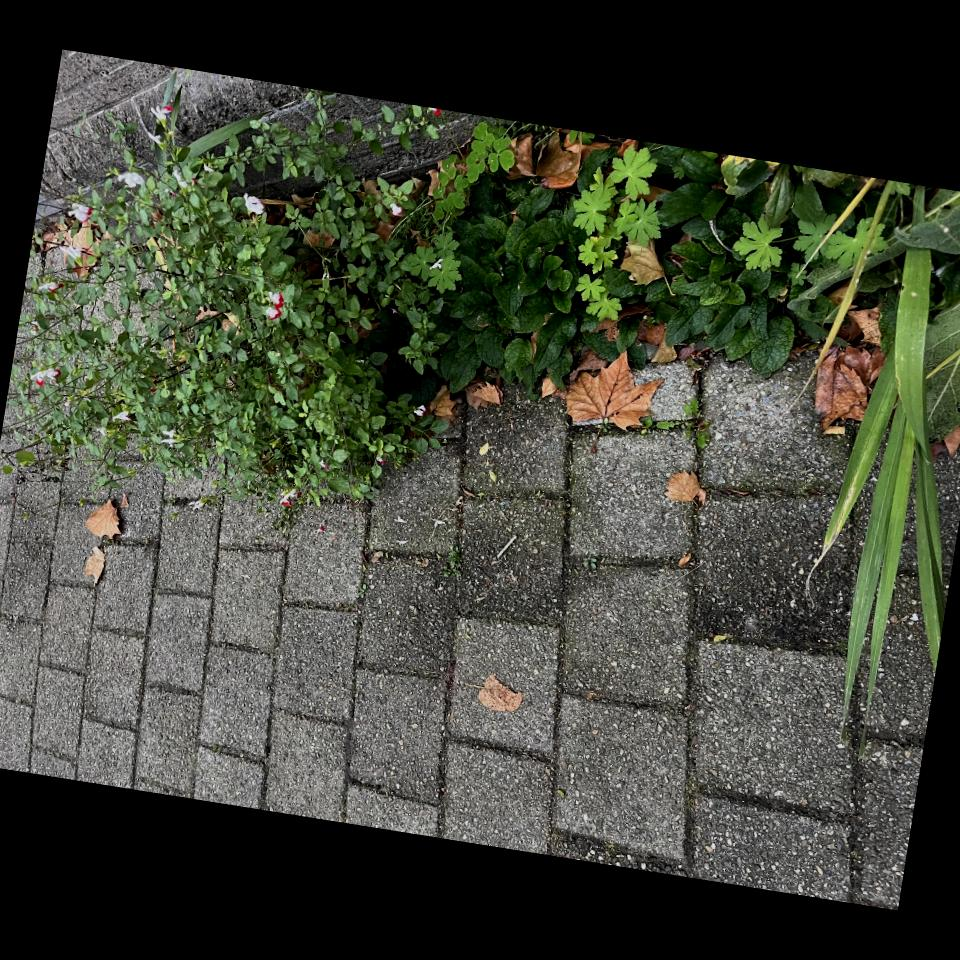weed: (376, 741, 427, 809), (246, 542, 276, 562)
